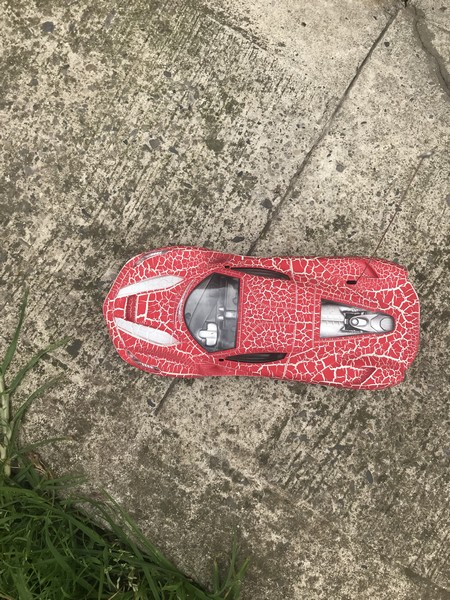RC: (102, 244, 422, 389)
